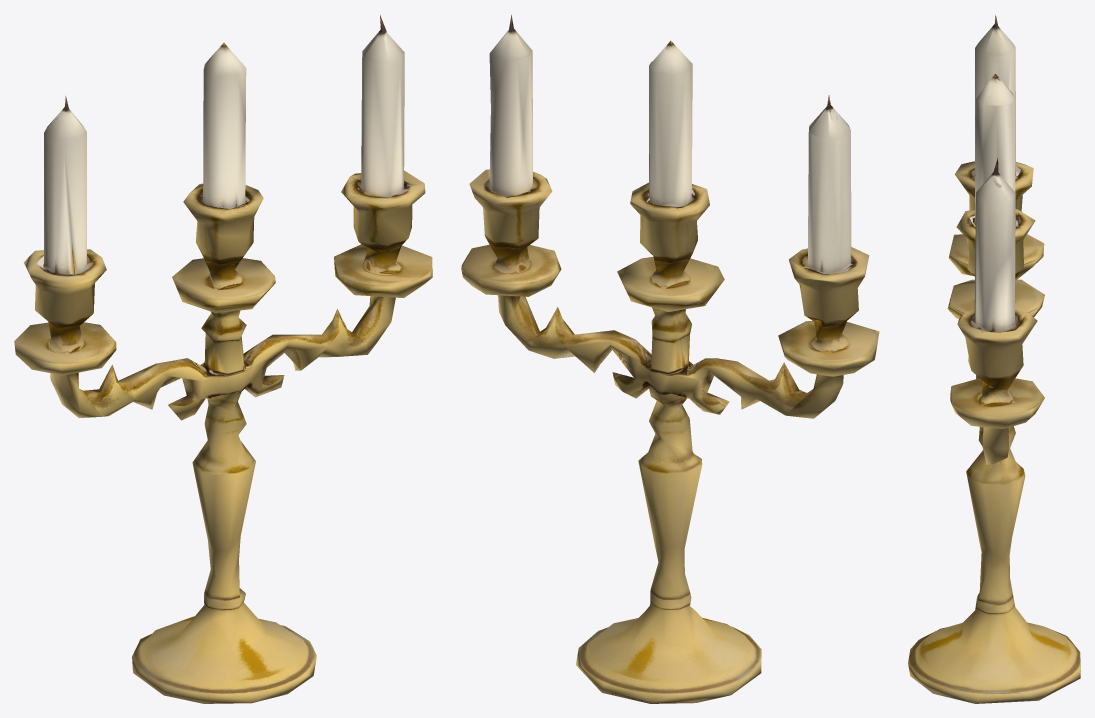
Rendered from candelabra.glb.
The picture shows the model from 3 angles, left to right: view 1: azimuth 30°, elevation 25°; view 2: azimuth 150°, elevation 25°; view 3: azimuth 270°, elevation 25°; orthographic projection. The views are drawn at different scales.
Parts seen in each view (by area): view 1: Mesh1.0; view 2: Mesh1.0; view 3: Mesh1.0.
Part boxes in pixels (box(x1,y1,x2,y2)): Mesh1.0: box(14, 15, 432, 703); Mesh1.0: box(461, 15, 879, 703); Mesh1.0: box(908, 15, 1080, 703).
Size of the model in its own units: 1.34 by 1.96 by 0.5174.
Materials: 1 (1 with a texture image).
